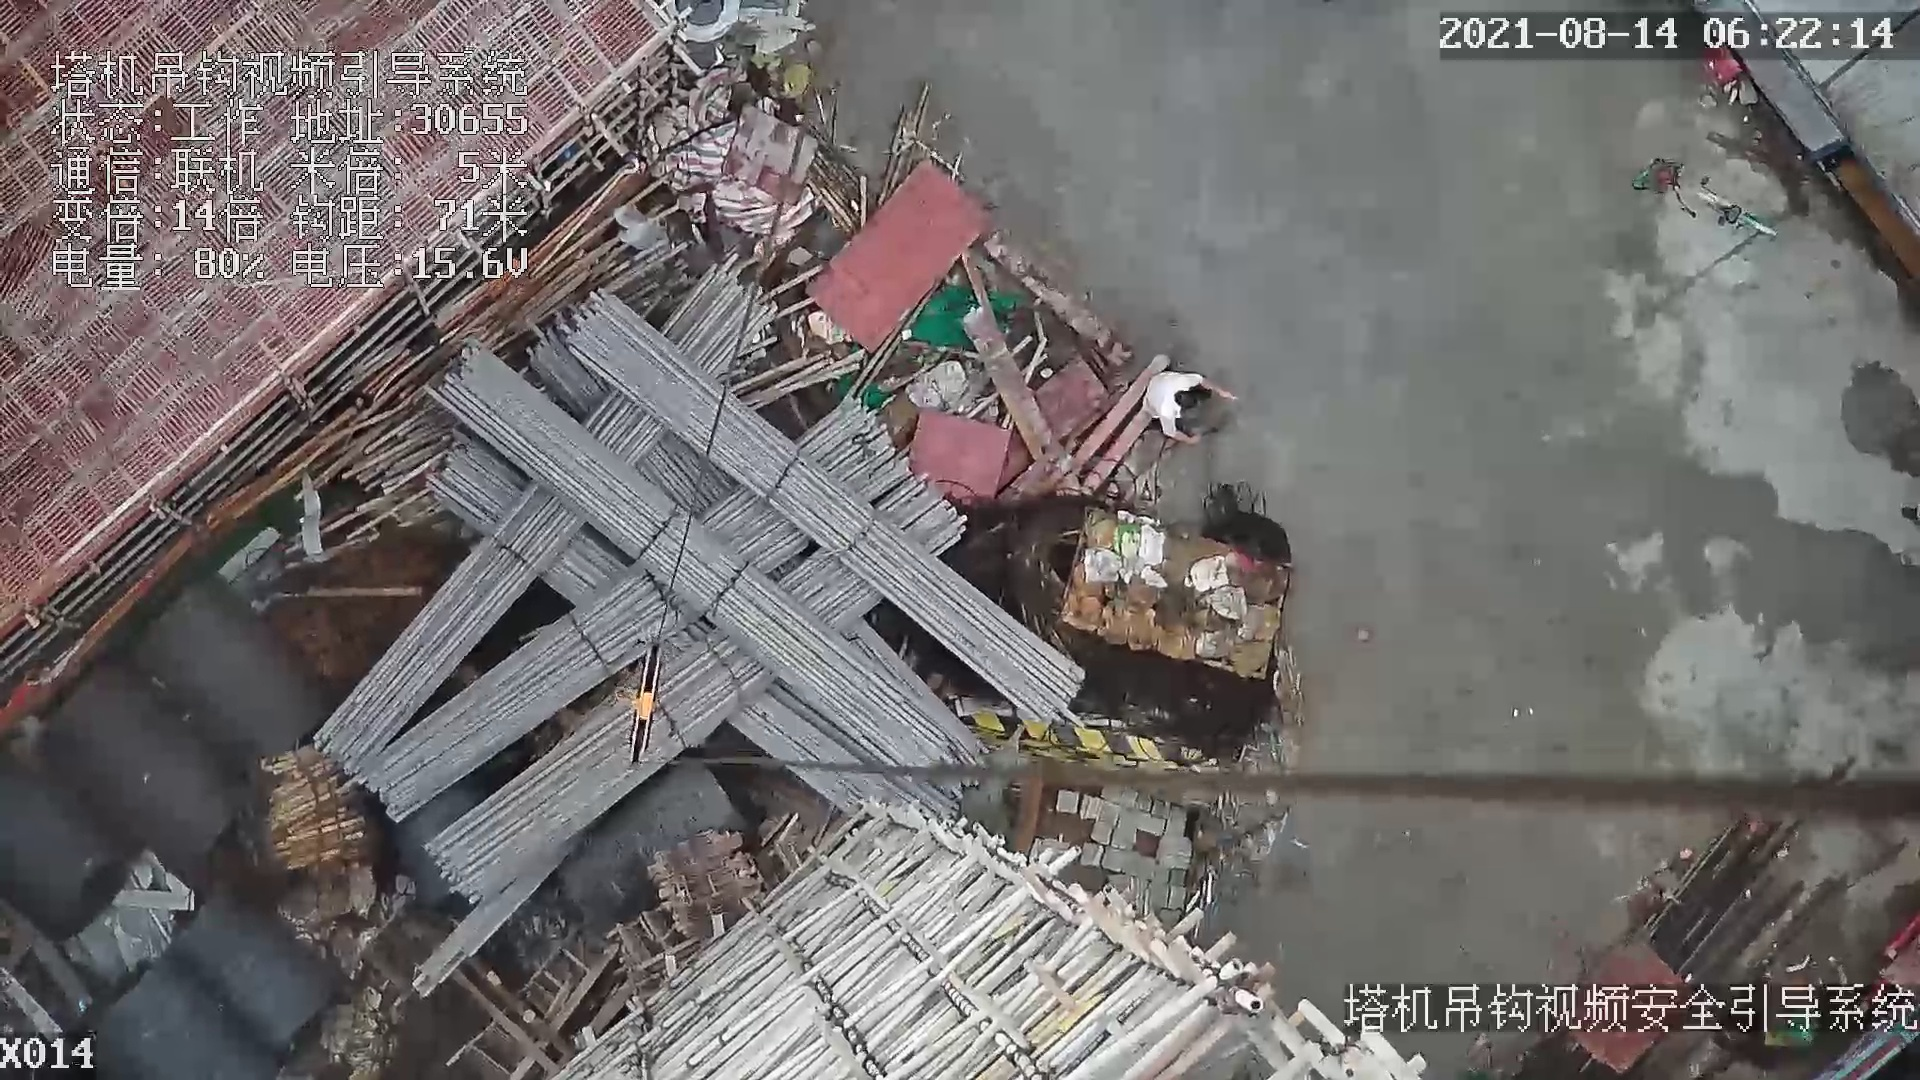hook: (626, 637, 659, 769)
